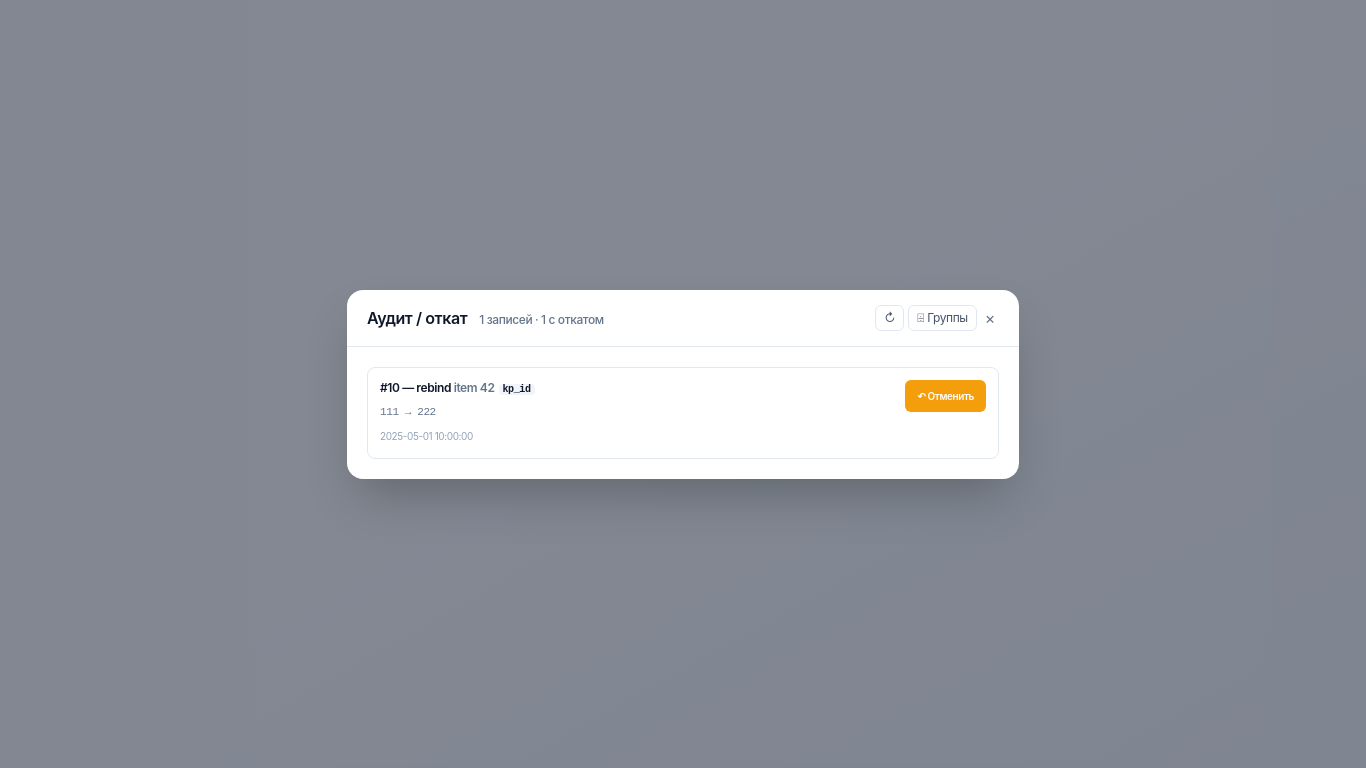
it: AuditPanel.vue › confirms and POSTs to /undo on click; row turns into "отменено"
The image size is (1366, 768).
Step 1. Click the button with test id "audit-undo-10" → [946, 396], box [905,380,986,412]
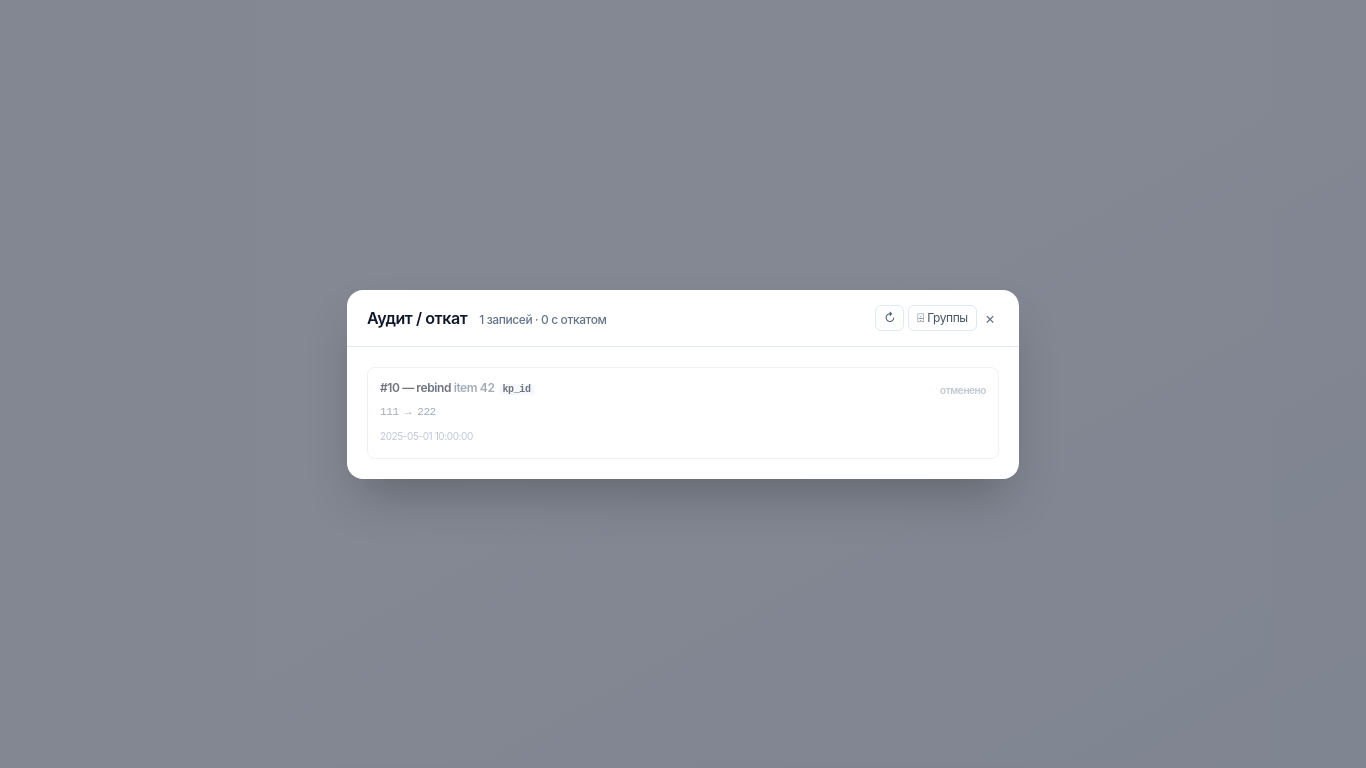
Expected: the text "отменено" is shown, [940,380,986,400]
